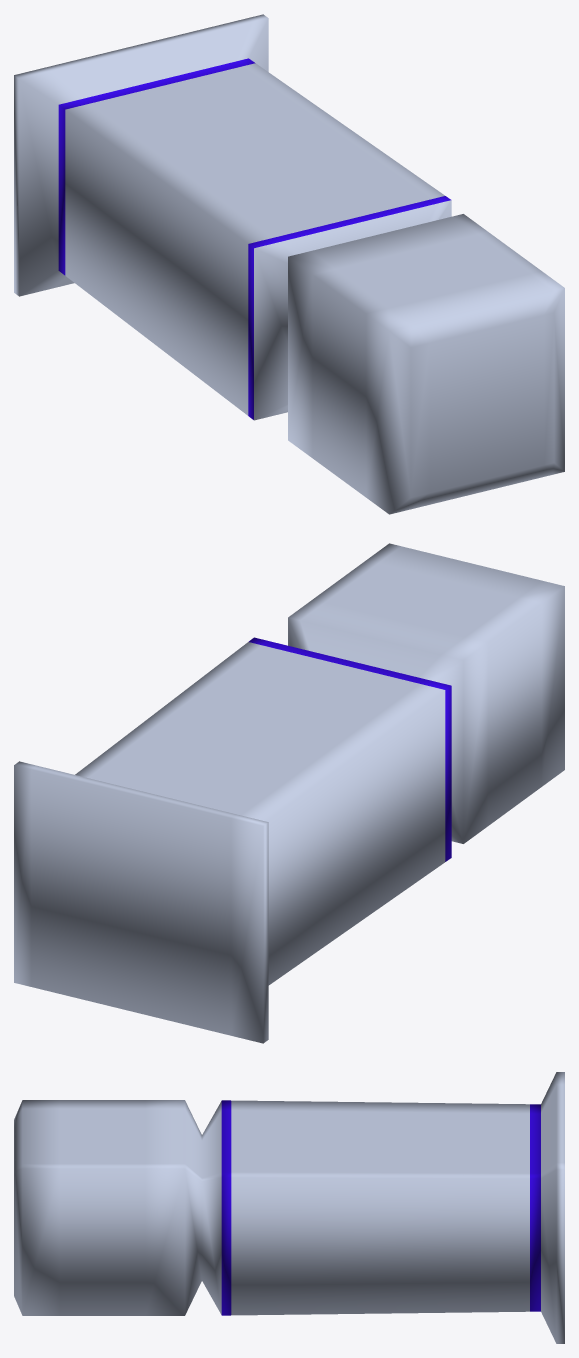
The model's file is avatar1.fbx.
3 renders of one model, top to bottom at view 1: azimuth 30°, elevation 25°; view 2: azimuth 150°, elevation 25°; view 3: azimuth 270°, elevation 25°, orthographic. The views are drawn at different scales.
Parts seen in each view (by area): view 1: Avatar1; view 2: Avatar1; view 3: Avatar1.
Boxes of the visible parts, x1,y1,x2,y2 form: Avatar1: (14,14,564,514); Avatar1: (14,543,564,1043); Avatar1: (14,1072,564,1343).
Size of the model in its own units: 2.84 by 2.37 by 6.78.
